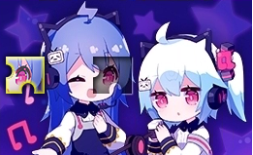gap: (93, 57, 133, 95)
